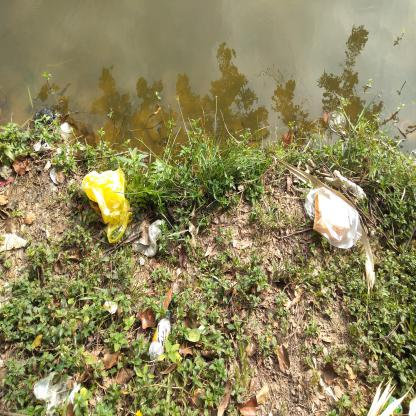plastik: (82, 167, 132, 243), (304, 186, 362, 248), (149, 312, 171, 362)
